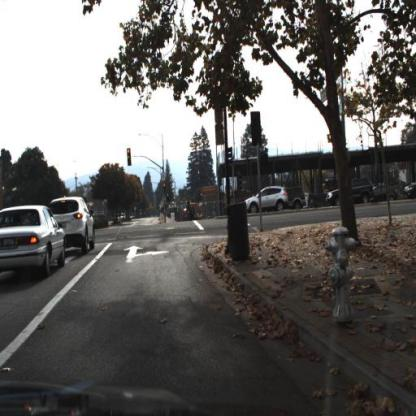car: (1, 201, 62, 276), (50, 193, 97, 257), (53, 197, 100, 254), (325, 177, 376, 208), (328, 179, 375, 209), (246, 187, 290, 213), (287, 189, 311, 208)
trafficLight-Red: (127, 150, 132, 166), (163, 182, 167, 194)
